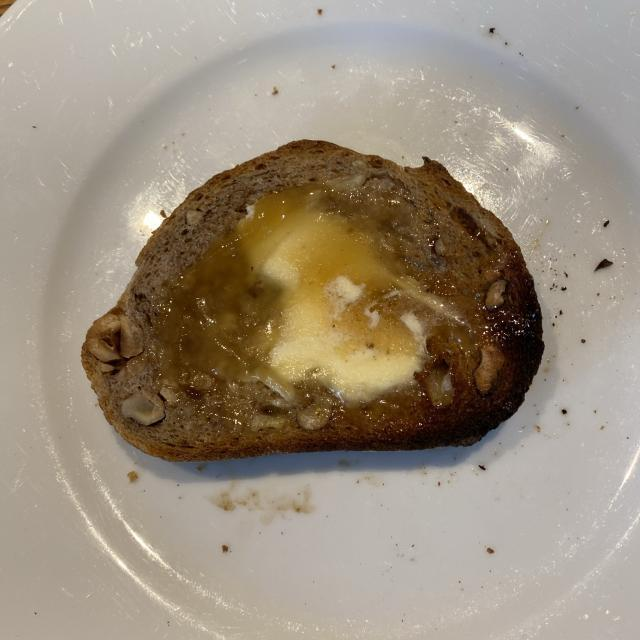bread: (85, 145, 538, 457)
butter: (248, 207, 421, 394)
honey: (152, 175, 494, 423)
